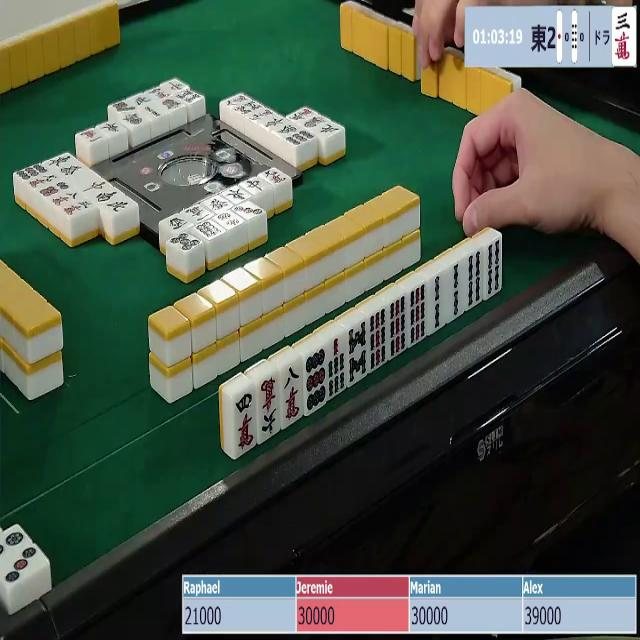m3: (614, 9, 636, 65)
m4: (231, 389, 258, 456)
m6: (258, 376, 282, 441)
m8: (281, 363, 304, 425)
s2: (428, 270, 447, 332), (447, 260, 465, 320)
s4: (464, 250, 484, 311), (486, 236, 502, 301)
s7: (328, 337, 348, 398)
s8: (347, 321, 368, 385)
s9: (369, 308, 390, 372), (387, 296, 408, 359), (408, 283, 429, 346)
t9: (304, 347, 328, 412)
